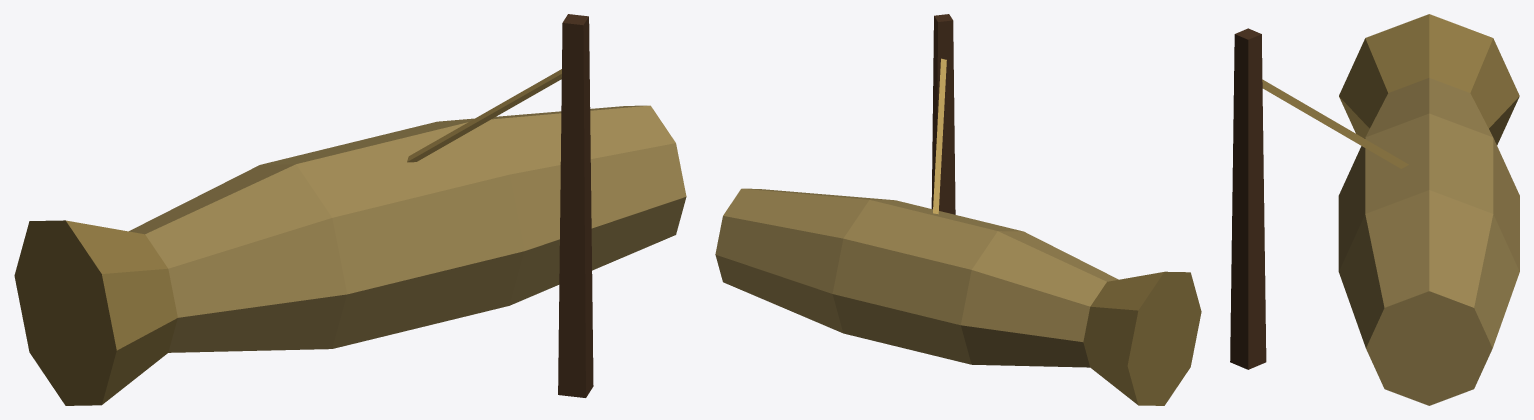
The model's file is br_x_fish_trap.glb.
The picture shows the model from 3 angles, left to right: view 1: azimuth 30°, elevation 25°; view 2: azimuth 150°, elevation 25°; view 3: azimuth 270°, elevation 25°; orthographic projection. The views are drawn at different scales.
Parts seen in each view (by area): view 1: br_x_fish_trap; view 2: br_x_fish_trap; view 3: br_x_fish_trap.
Part boxes in pixels (x1,y1,x2,y2): br_x_fish_trap: (14, 14, 686, 405); br_x_fish_trap: (715, 14, 1201, 405); br_x_fish_trap: (1230, 14, 1519, 405).
Bounding box in the file's own units: 1.32 × 0.8 × 0.64.
